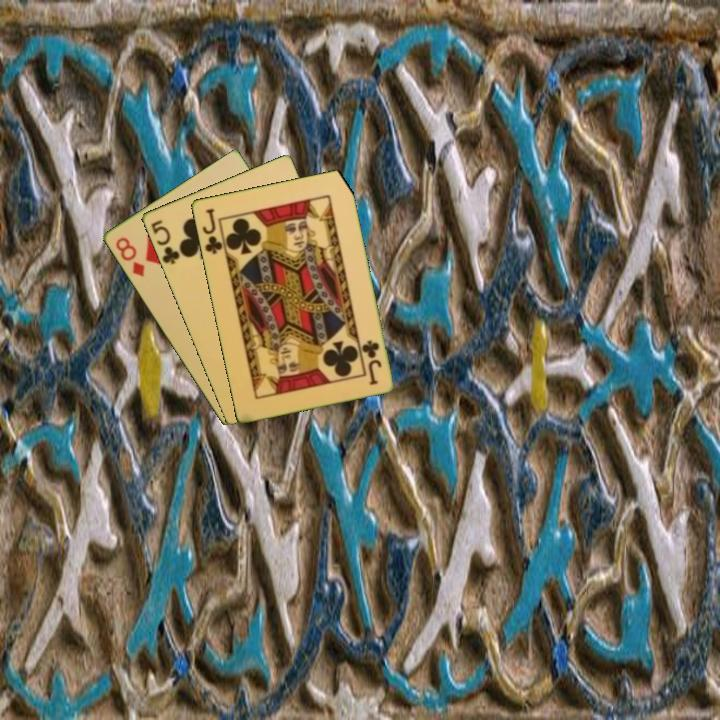5c: (147, 216, 182, 267)
8d: (112, 233, 147, 280)
Jc: (198, 205, 228, 257), (358, 336, 384, 388)
